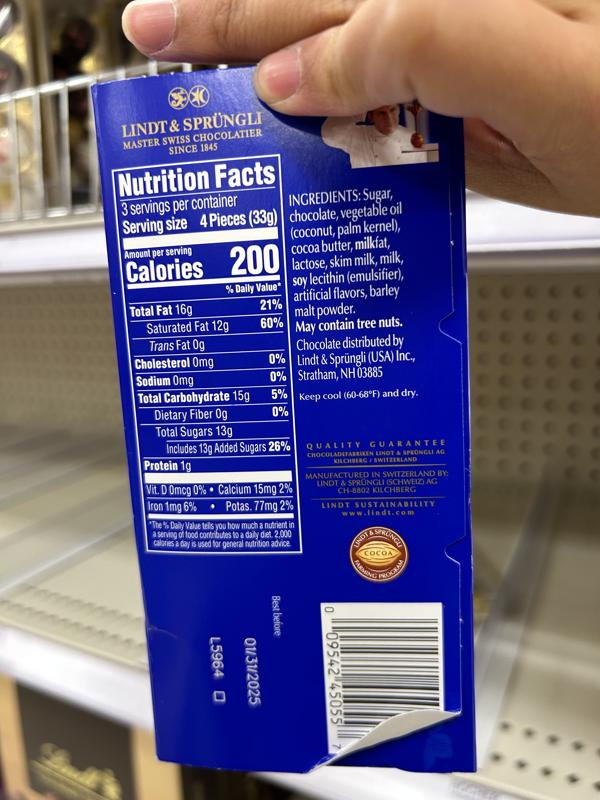ingredients: (285, 186, 409, 319)
